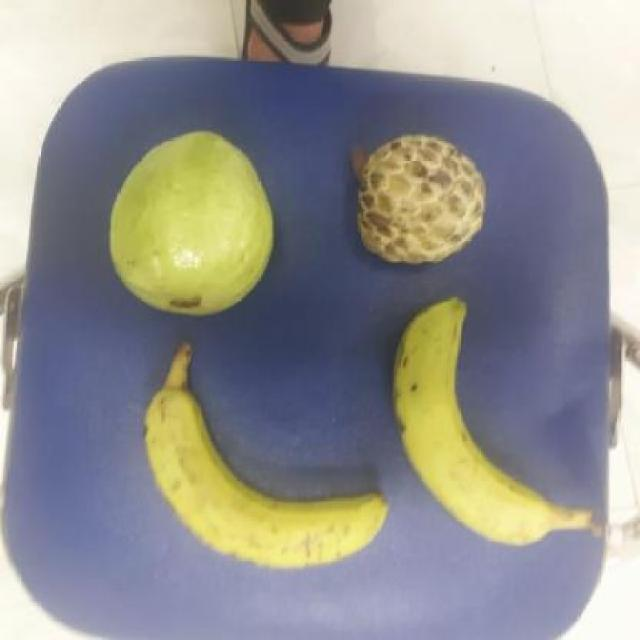banana: (135, 384, 397, 575), (390, 295, 556, 557)
guava: (106, 131, 289, 322)
sugar apple: (355, 131, 487, 274)
